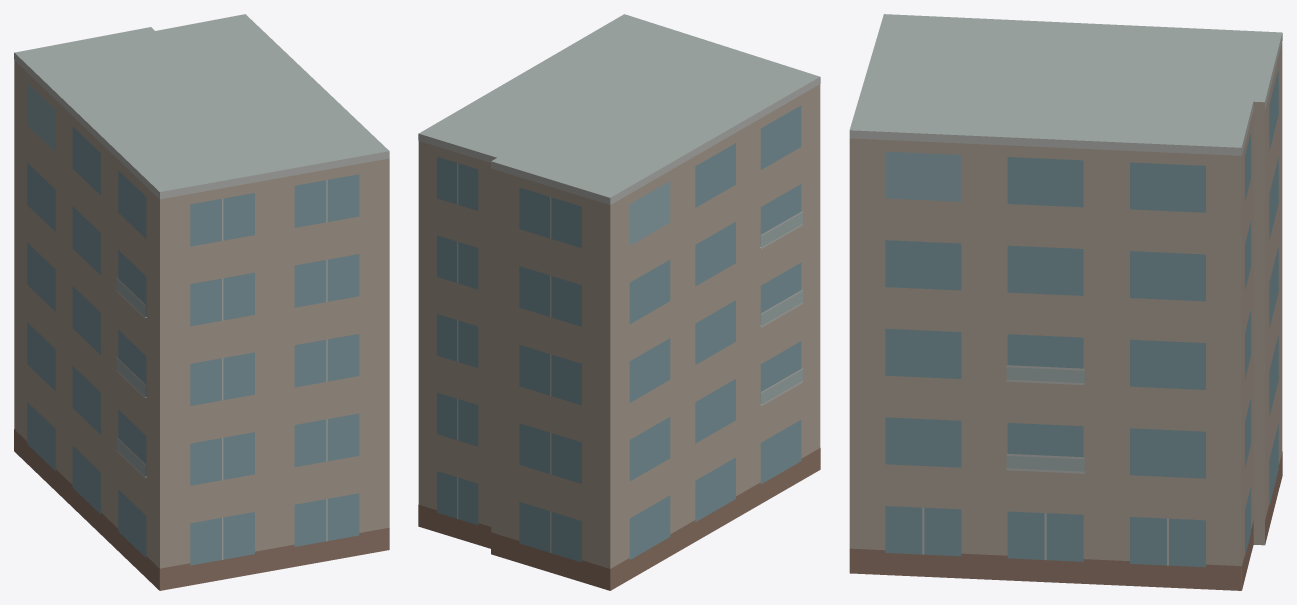
The model's file is survey-upis-32990253.glb.
3 views of the same model, side by side, from view 1: azimuth 30°, elevation 25°; view 2: azimuth 150°, elevation 25°; view 3: azimuth 270°, elevation 25° (orthographic). The views are drawn at different scales.
Parts seen in each view (by area): view 1: survey-upis-32990253.tmp; view 2: survey-upis-32990253.tmp; view 3: survey-upis-32990253.tmp.
Boxes of the visible parts, x1,y1,x2,y2 form: survey-upis-32990253.tmp: (14, 14, 389, 590); survey-upis-32990253.tmp: (418, 14, 820, 590); survey-upis-32990253.tmp: (849, 14, 1282, 590).
Size of the model in its own units: 8.69 by 13.4 by 11.88.
